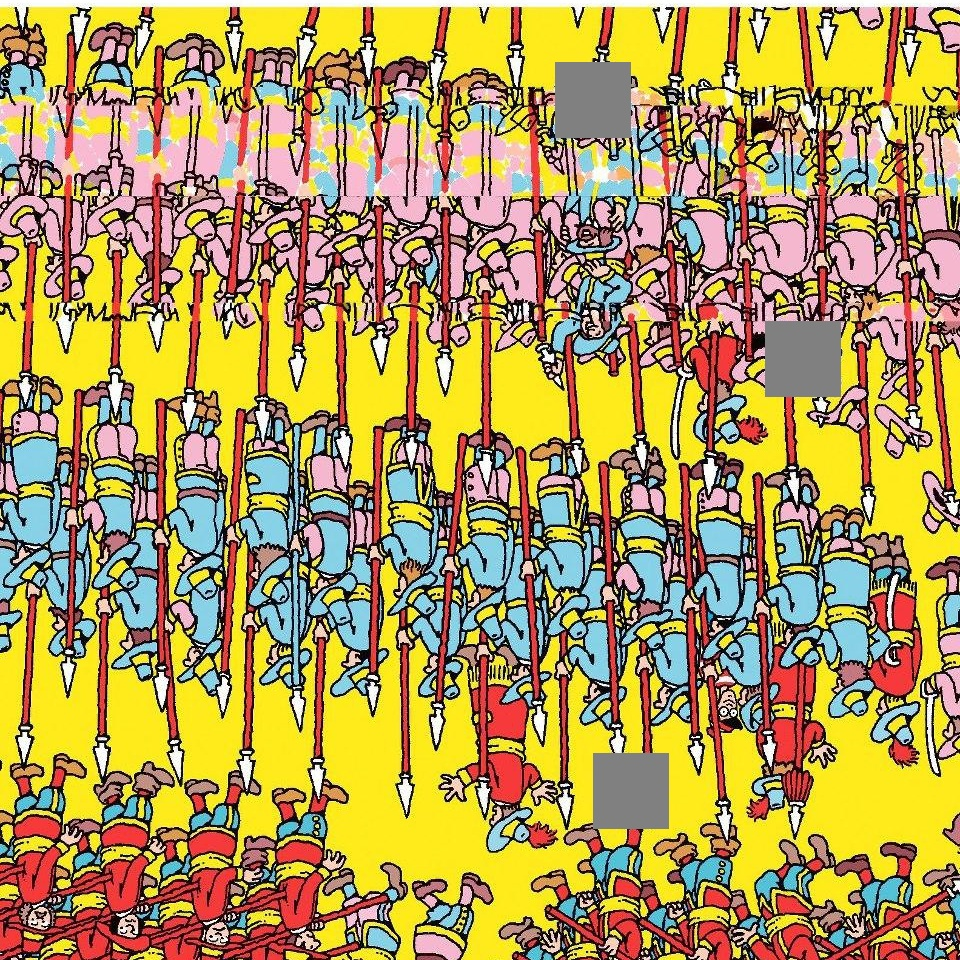waldo: (710, 674, 739, 736)
